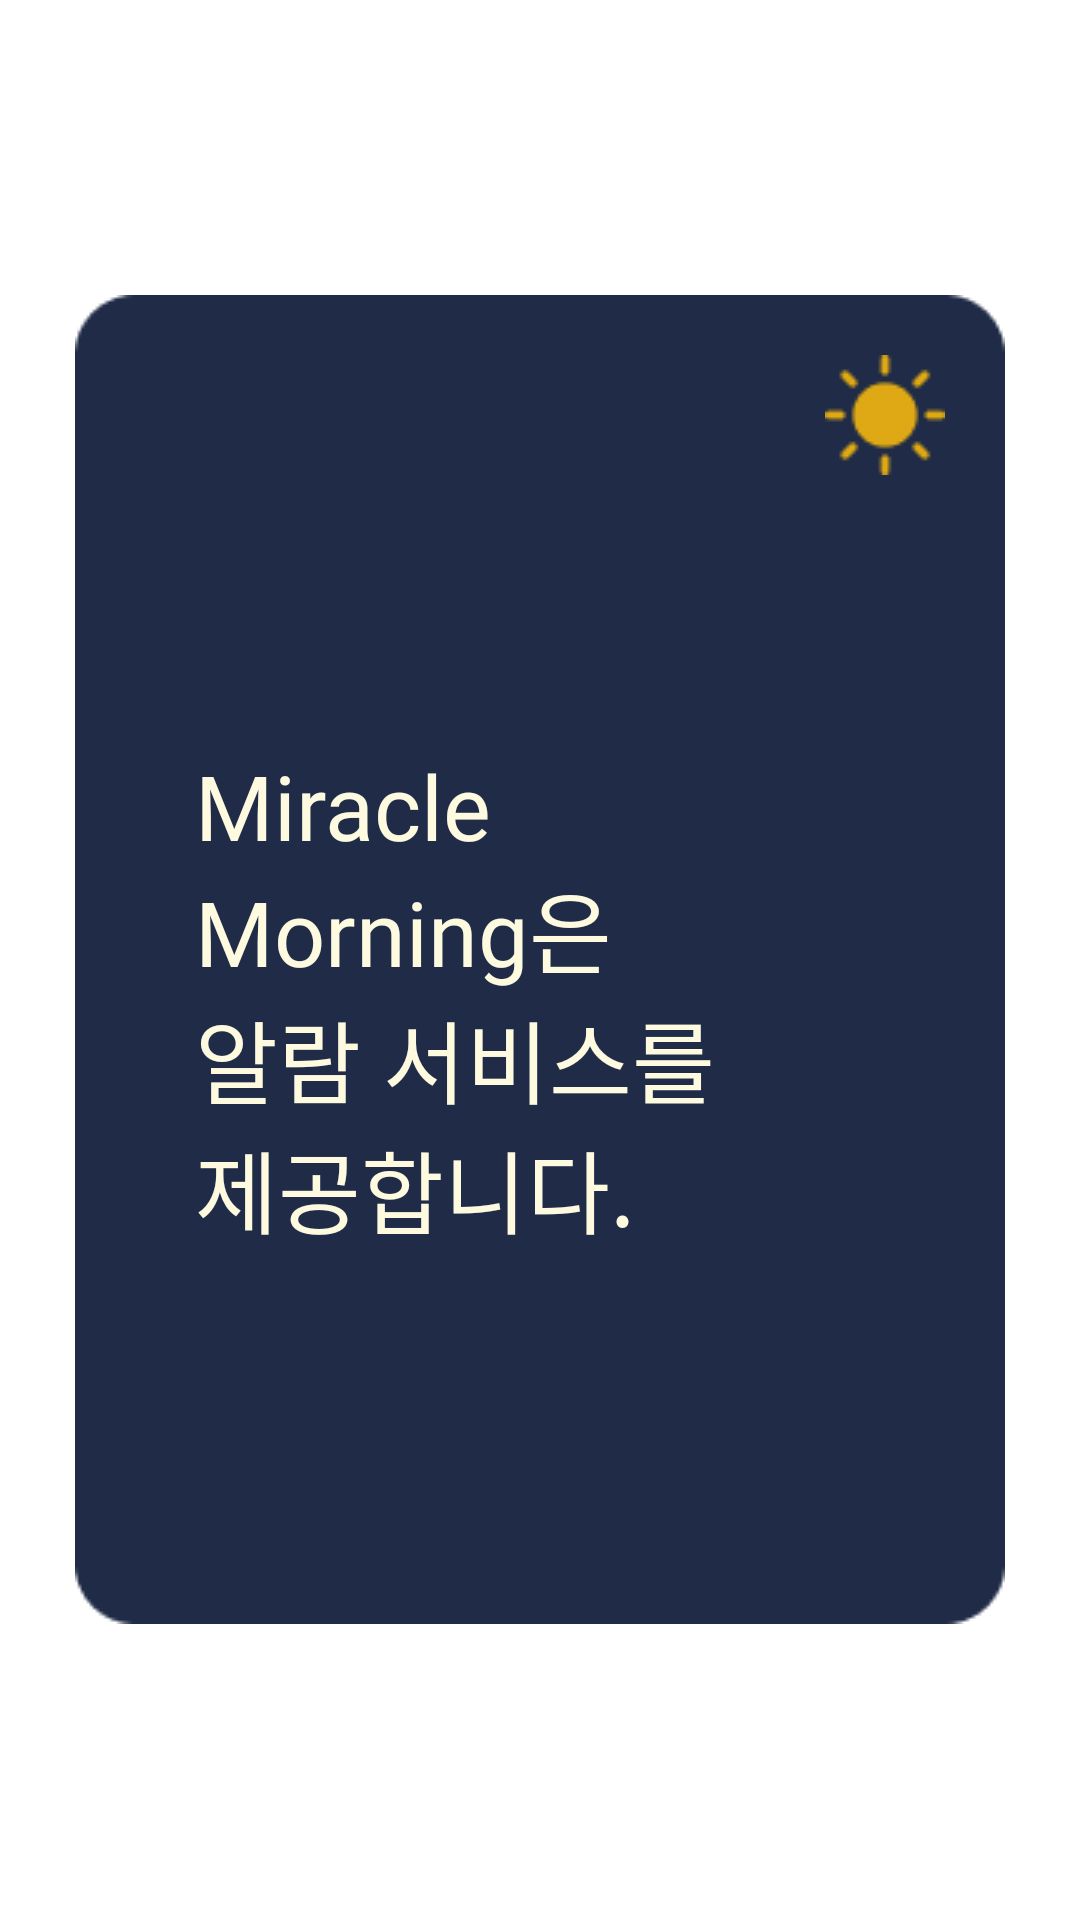

Where to tap for icons on this 1080 x 1920 app screen, as [x,y]:
onboradingimage: [885,415]
